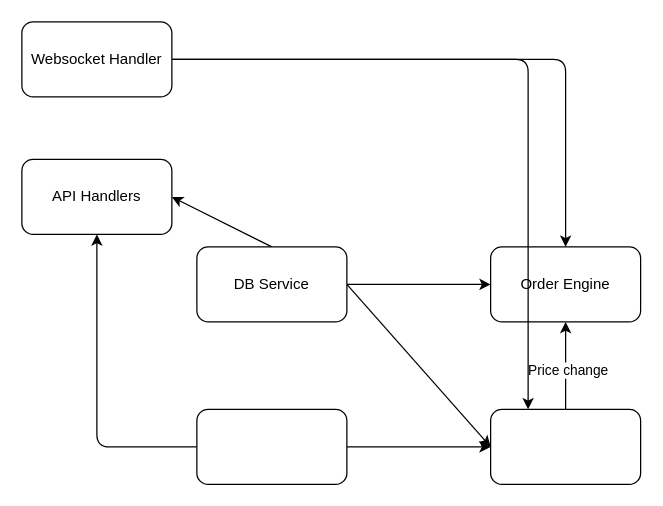
The diagram is 663 pixels wide and 506 high, and some of its shapes have lost their labels. The shapes that lost their labels are listed below. From the top down, each one's centre as x and y in pixels, then its label:
point 271,446: market service
point 565,446: Simulation Engine
